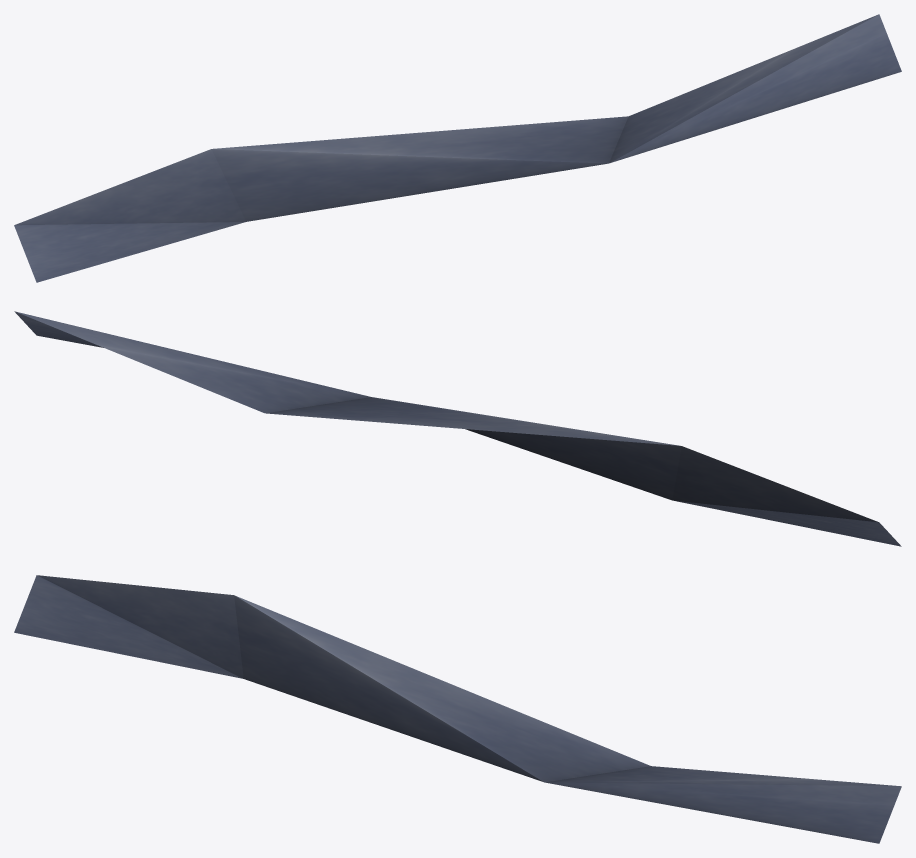
Rendered from SM_Floor_Ledge_C_A.fbx.
3 views of the same model, one above another, from view 1: azimuth 30°, elevation 25°; view 2: azimuth 150°, elevation 25°; view 3: azimuth 330°, elevation 25° (orthographic).
Parts seen in each view (by area): view 1: pCube274; view 2: pCube274; view 3: pCube274.
Part boxes in pixels (x1=…): pCube274: x1=14, y1=14, x2=901, y2=282; pCube274: x1=14, y1=311, x2=901, y2=546; pCube274: x1=14, y1=575, x2=901, y2=843.
Bounding box in the file's own units: 1 × 0.0764 × 0.087.
